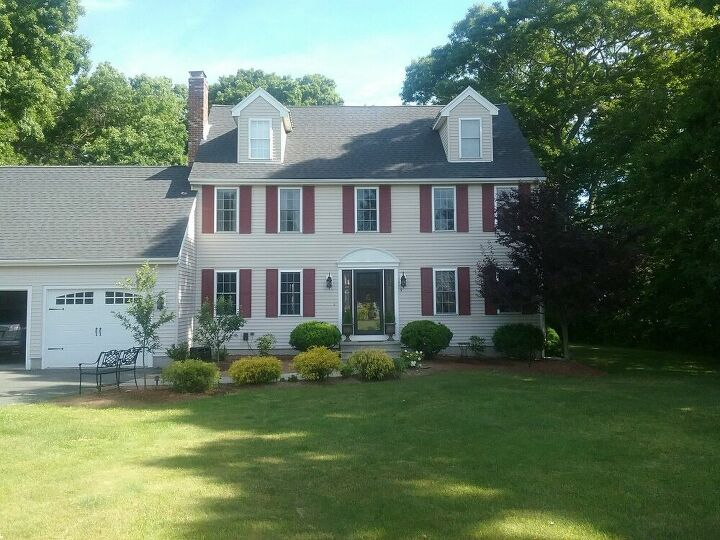bush: (161, 358, 227, 394), (284, 348, 343, 386), (487, 322, 546, 357), (394, 320, 456, 353), (225, 358, 289, 387), (292, 321, 347, 349)
